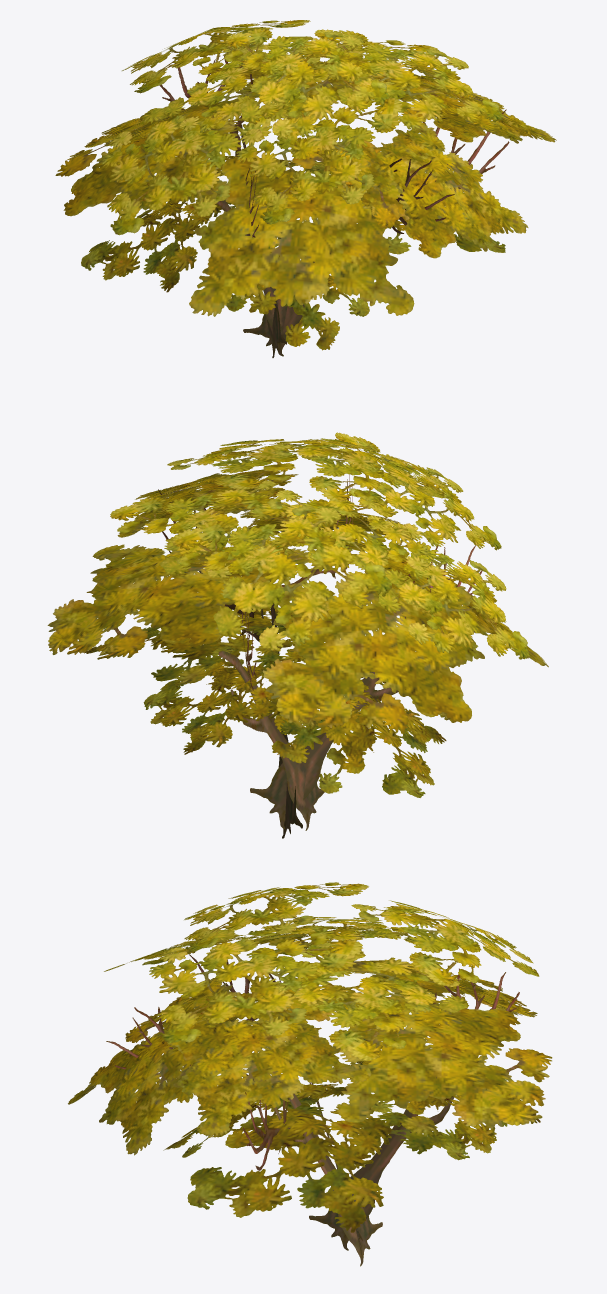
The model's file is JiaYeSi_GuanMu_2huang.FBX.
3 renders of one model, top to bottom at view 1: azimuth 30°, elevation 25°; view 2: azimuth 150°, elevation 25°; view 3: azimuth 270°, elevation 25°, orthographic. The views are drawn at different scales.
Parts seen in each view (by area): view 1: JiaYeSi_GuanMu_2huang; view 2: JiaYeSi_GuanMu_2huang; view 3: JiaYeSi_GuanMu_2huang.
Part boxes in pixels (left/top/right/bottom): JiaYeSi_GuanMu_2huang: left=55, top=20, right=556, bottom=357; JiaYeSi_GuanMu_2huang: left=47, top=432, right=548, bottom=838; JiaYeSi_GuanMu_2huang: left=68, top=882, right=552, bottom=1266.
Size of the model in its own units: 350 by 247 by 343.
